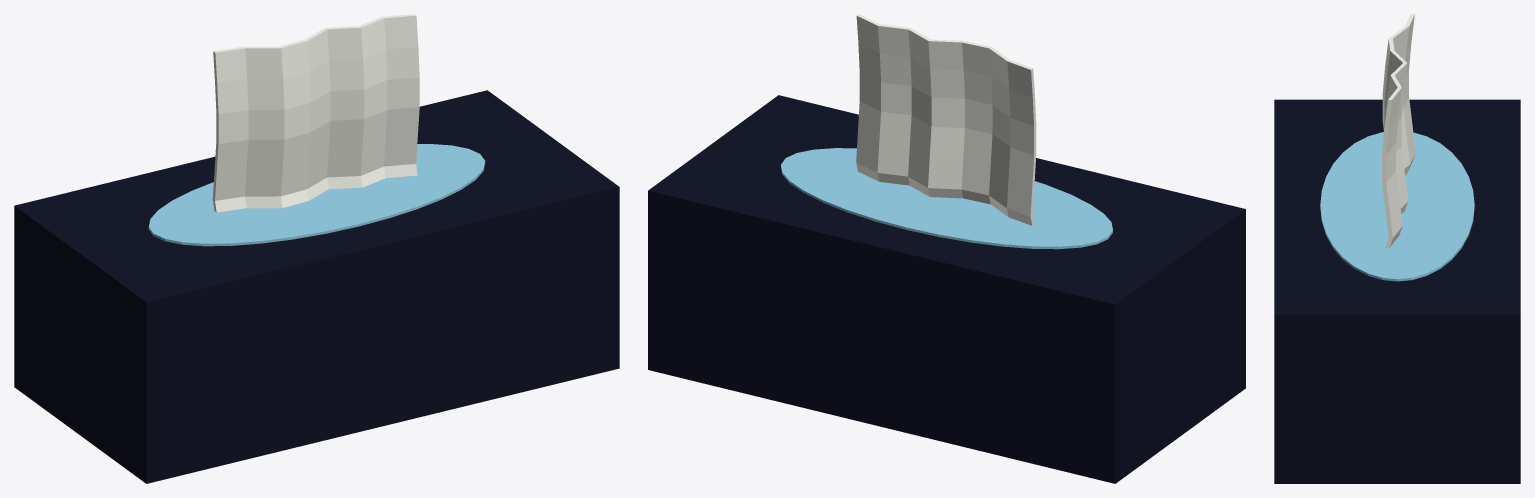
File: TissueBoxV1.fbx
3 renders of one model, left to right at view 1: azimuth 30°, elevation 25°; view 2: azimuth 150°, elevation 25°; view 3: azimuth 270°, elevation 25°, orthographic. The views are drawn at different scales.
Visible parts, largest first — view 1: Cube; view 2: Cube; view 3: Cube.
Part boxes in pixels (x1,y1,x2,y2): Cube: (14,14,619,483); Cube: (648,14,1245,483); Cube: (1274,14,1520,483).
Size of the model in its own units: 153 by 316 by 219.
